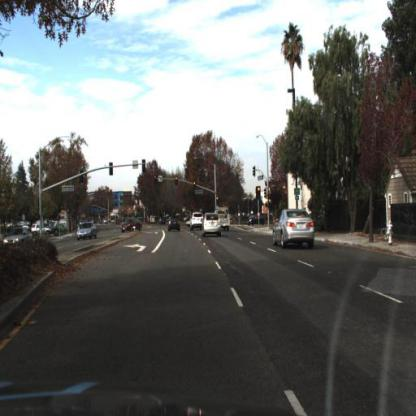car: (274, 208, 317, 254), (202, 213, 223, 242), (214, 202, 234, 231), (118, 217, 144, 237), (31, 222, 54, 243), (77, 221, 100, 242), (186, 210, 202, 236), (247, 212, 265, 229), (167, 216, 181, 233)
trafficLight: (217, 194, 222, 208)
trafficLight-Red: (255, 183, 263, 204), (174, 173, 180, 189), (193, 180, 198, 192)
trafficLight-RedLeft: (154, 174, 159, 187)
